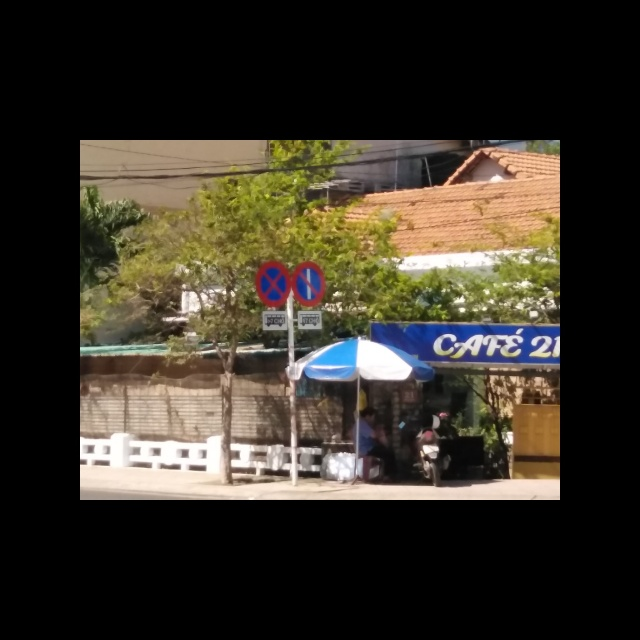Cấm dừng xe và đỗ xe: (255, 260, 292, 307)
Cấm đỗ xe ngày lẻ: (291, 261, 326, 307)
